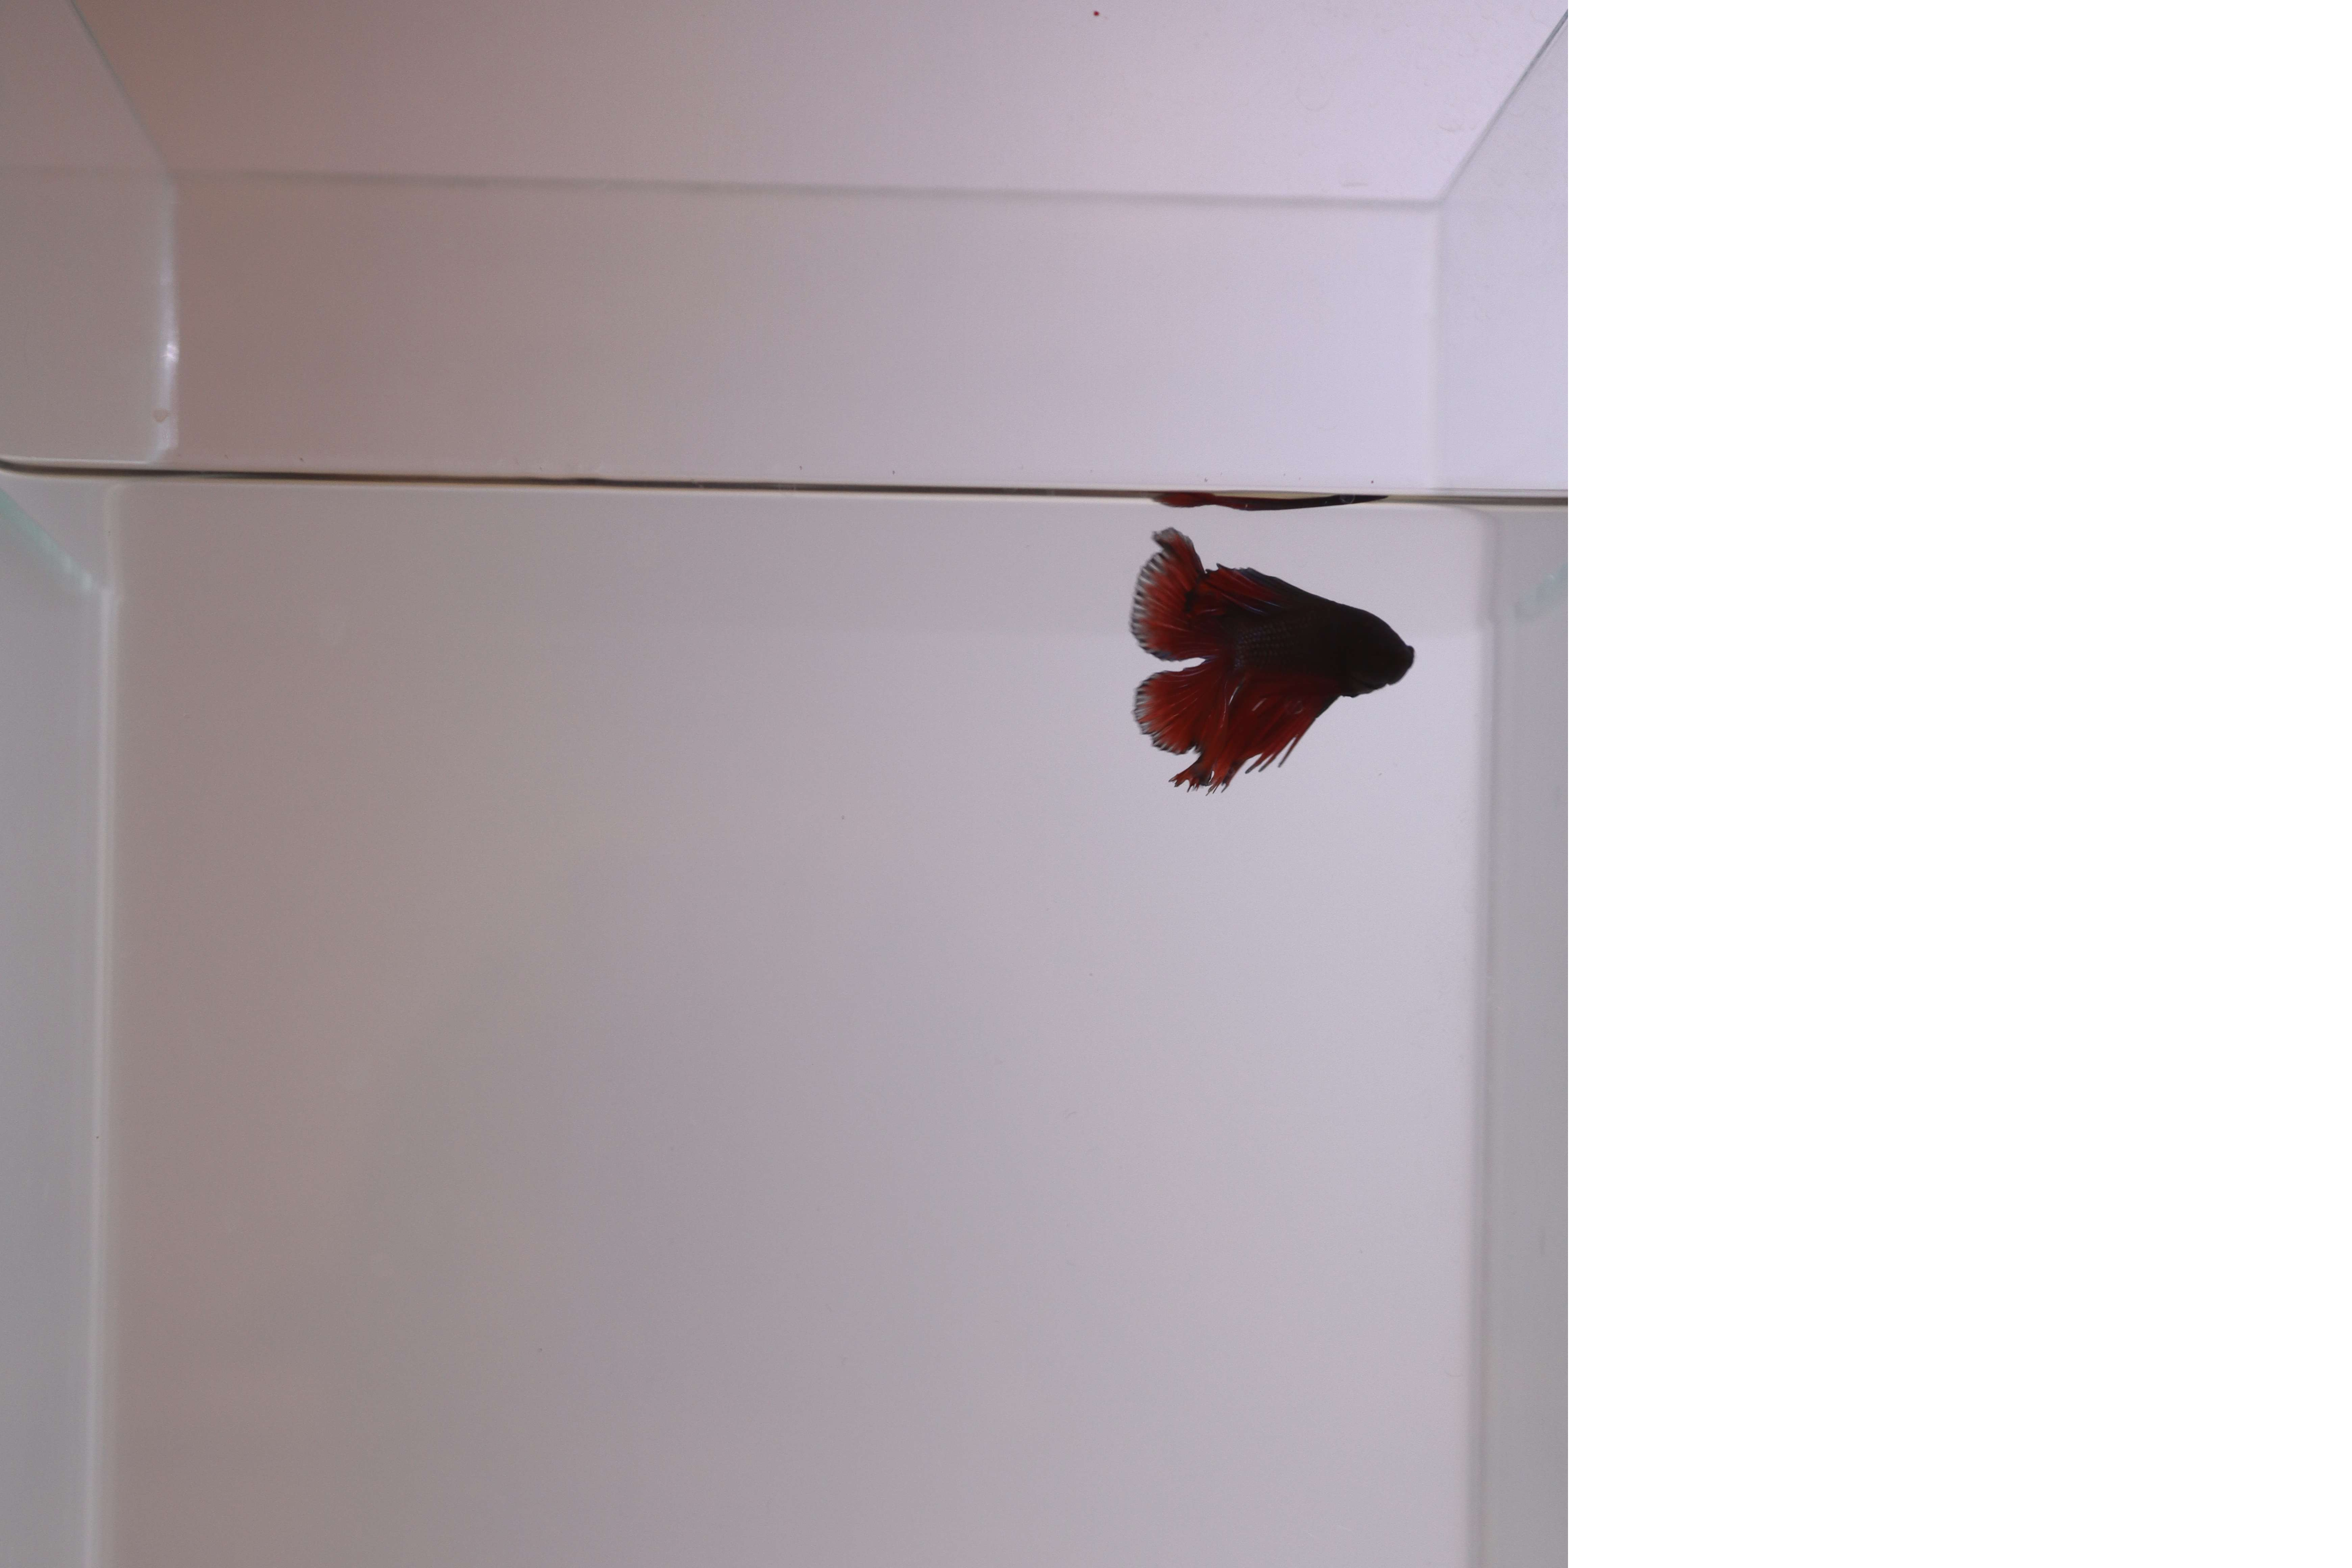fish: (1111, 525, 1426, 791)
